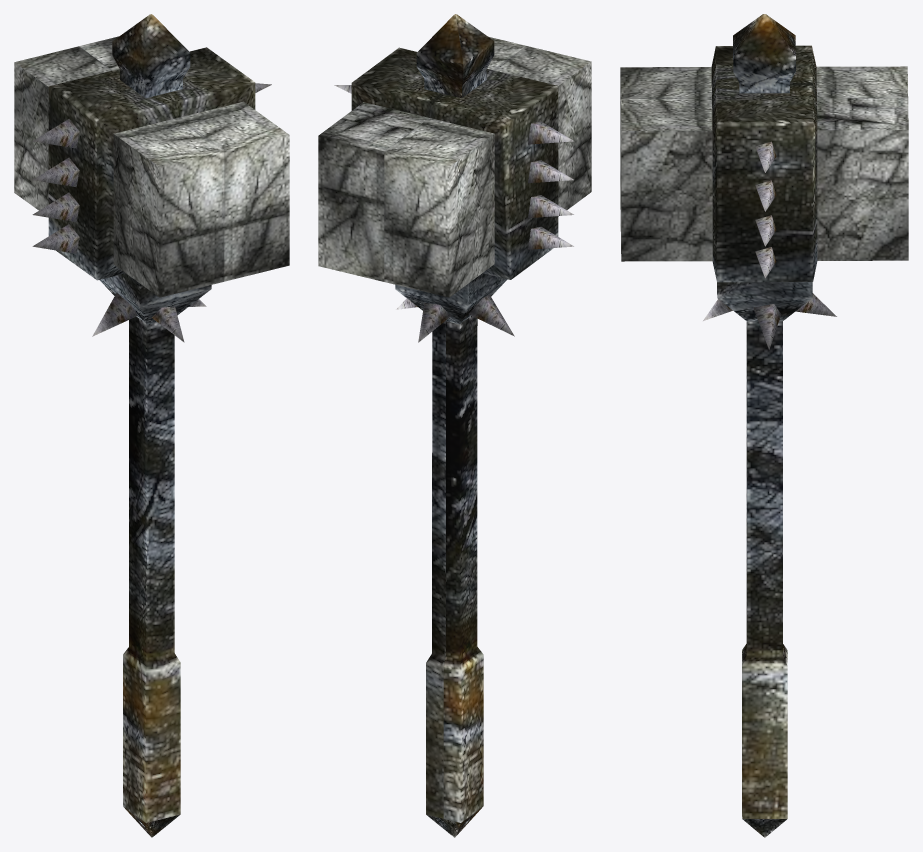
File: weapons_hammer_h1.glb
3 views of the same model, side by side, from view 1: azimuth 30°, elevation 25°; view 2: azimuth 150°, elevation 25°; view 3: azimuth 270°, elevation 25° (orthographic).
Parts seen in each view (by area): view 1: hammer_h1; view 2: hammer_h1; view 3: hammer_h1.
Part boxes in pixels (box(x1,y1,x2,y2)): hammer_h1: box(14, 14, 289, 837); hammer_h1: box(318, 14, 591, 837); hammer_h1: box(620, 14, 908, 837).
Size of the model in its own units: 0.3083 by 1.01 by 0.3201.
Materials: 1 (1 with a texture image).
